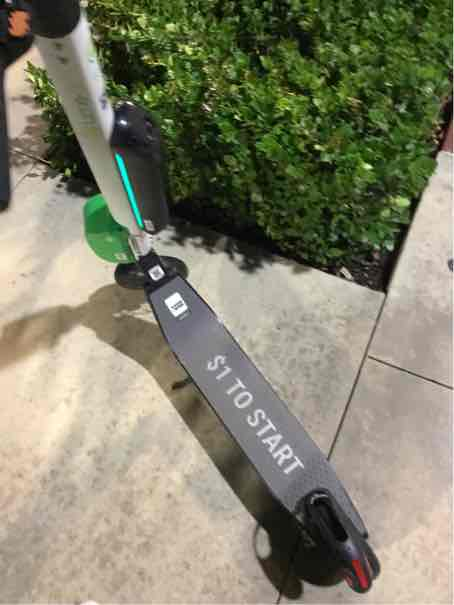scooter: (4, 10, 381, 605)
